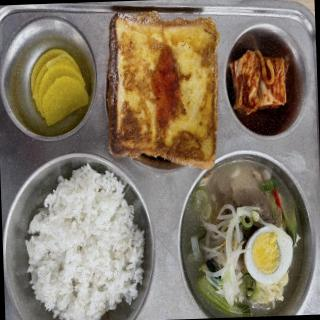Nasi: (28, 161, 152, 320)
